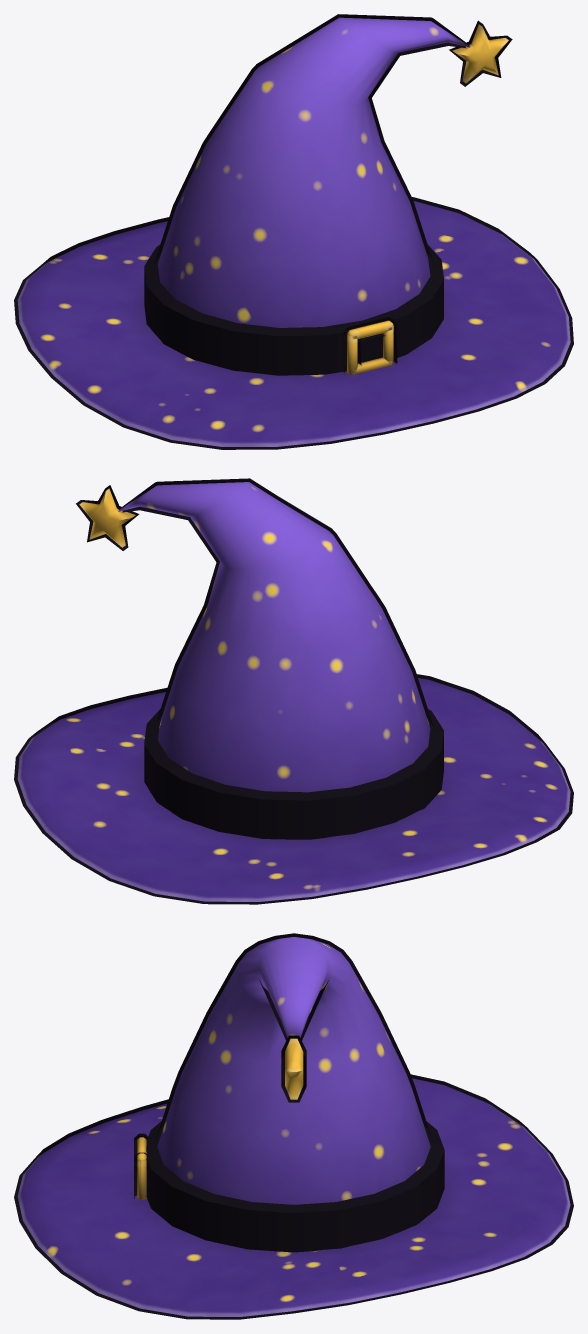
Rendered from StarryWitchHat.fbx.
3 renders of one model, top to bottom at view 1: azimuth 30°, elevation 25°; view 2: azimuth 150°, elevation 25°; view 3: azimuth 270°, elevation 25°, orthographic.
Visible parts, largest first — view 1: StarryWitchHat; view 2: StarryWitchHat; view 3: StarryWitchHat.
Boxes of the visible parts, x1,y1,x2,y2 form: StarryWitchHat: [14, 14, 573, 449]; StarryWitchHat: [14, 478, 573, 904]; StarryWitchHat: [14, 933, 573, 1319].
Bounding box in the file's own units: 243 × 146 × 243.
1 material, 1 textured.
